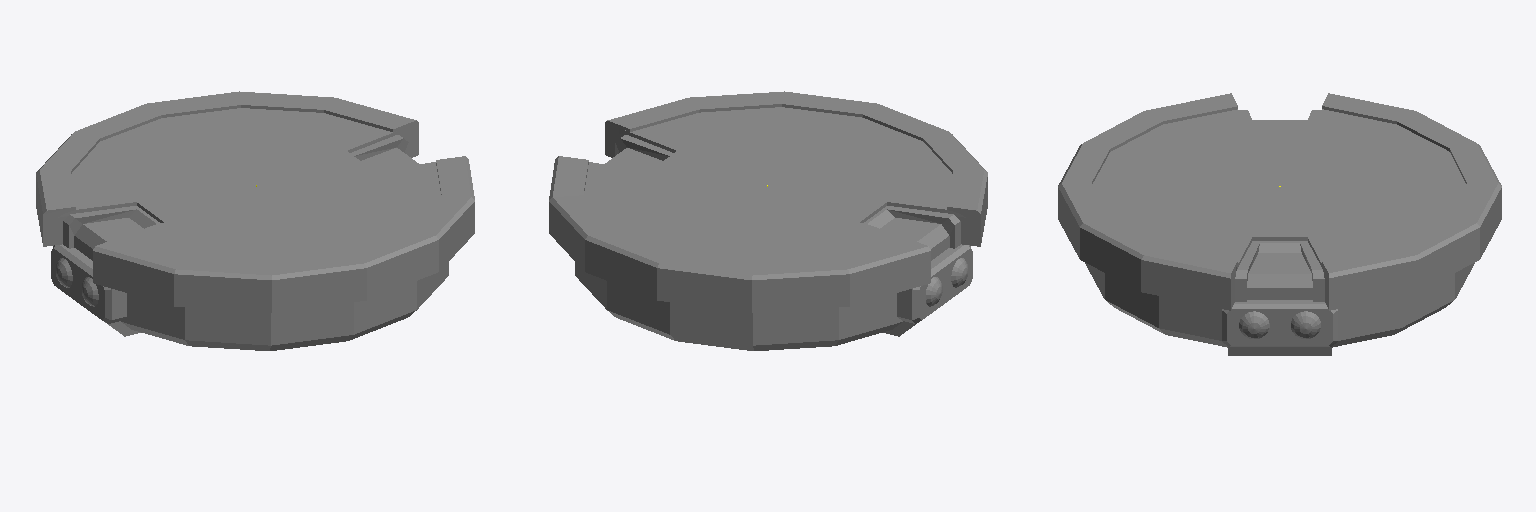
File: cpz_obj_floorB_2b_M.obj
The picture shows the model from 3 angles: view 1: azimuth 30°, elevation 25°; view 2: azimuth 150°, elevation 25°; view 3: azimuth 270°, elevation 25°; orthographic projection.
Visible parts, largest first — view 1: cpz_metal_tn1_footholdA_floor, ccp_metal_yy_yelow_Cmn_dpn, cpz_metal_tn1_footholdA_001, cpz_metal_yc1_light01_IgnoL_d, cpz_etc_tn1_lamp_001; view 2: cpz_metal_tn1_footholdA_floor, ccp_metal_yy_yelow_Cmn_dpn, cpz_metal_tn1_footholdA_001, cpz_metal_yc1_light01_IgnoL_d, cpz_etc_tn1_lamp_001; view 3: cpz_metal_tn1_footholdA_floor, ccp_metal_yy_yelow_Cmn_dpn, cpz_metal_tn1_footholdA_001, cpz_metal_yc1_light01_IgnoL_d, cpz_etc_tn1_lamp_001.
Part boxes in pixels (bbox=[...]): cpz_metal_tn1_footholdA_floor: bbox=[58, 108, 448, 350]; ccp_metal_yy_yelow_Cmn_dpn: bbox=[36, 91, 474, 312]; cpz_metal_tn1_footholdA_001: bbox=[51, 135, 435, 336]; cpz_metal_yc1_light01_IgnoL_d: bbox=[74, 148, 418, 260]; cpz_etc_tn1_lamp_001: bbox=[56, 258, 98, 306]; cpz_metal_tn1_footholdA_floor: bbox=[575, 107, 965, 350]; ccp_metal_yy_yelow_Cmn_dpn: bbox=[549, 91, 987, 312]; cpz_metal_tn1_footholdA_001: bbox=[589, 135, 972, 336]; cpz_metal_yc1_light01_IgnoL_d: bbox=[605, 148, 949, 260]; cpz_etc_tn1_lamp_001: bbox=[926, 258, 967, 306]; cpz_metal_tn1_footholdA_floor: bbox=[1085, 109, 1474, 347]; ccp_metal_yy_yelow_Cmn_dpn: bbox=[1058, 93, 1501, 310]; cpz_metal_tn1_footholdA_001: bbox=[1222, 110, 1337, 355]; cpz_metal_yc1_light01_IgnoL_d: bbox=[1247, 120, 1312, 299]; cpz_etc_tn1_lamp_001: bbox=[1239, 311, 1320, 338].
Size of the model in its own units: 71.31 by 26.36 by 72.95.